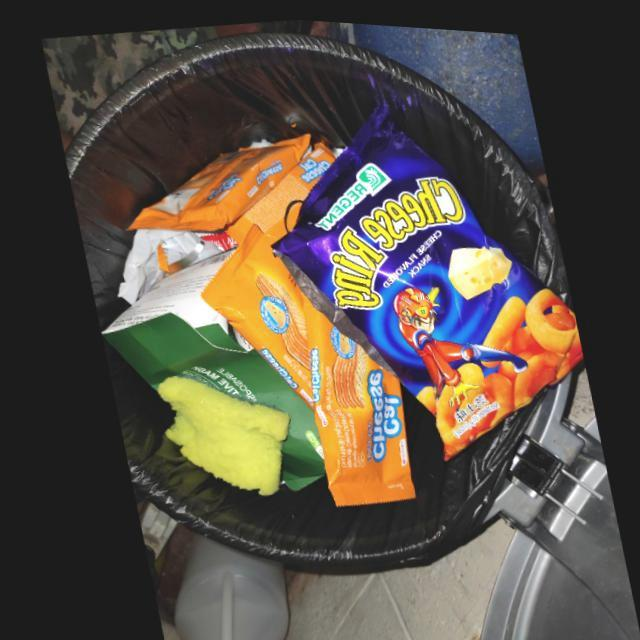cardboard: (96, 243, 318, 487)
food_wrapper: (266, 94, 578, 454), (296, 287, 408, 502), (196, 220, 308, 404), (123, 129, 309, 229), (221, 138, 333, 243)
paper: (113, 224, 232, 301)
